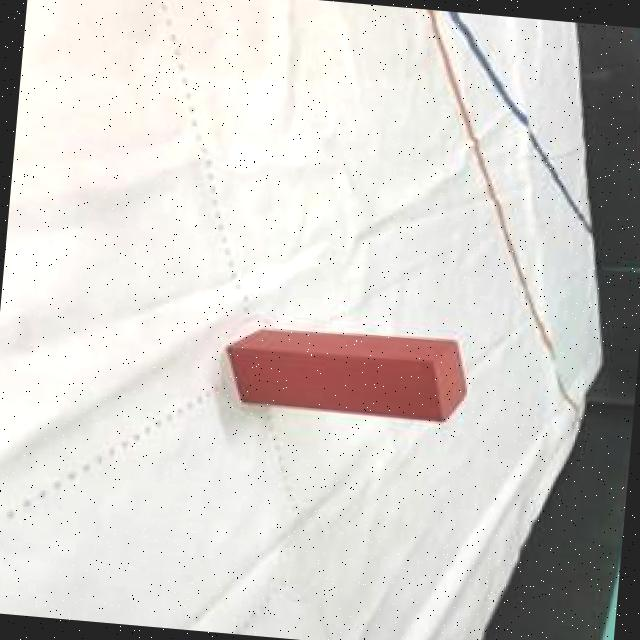redbox: (221, 321, 473, 422)
